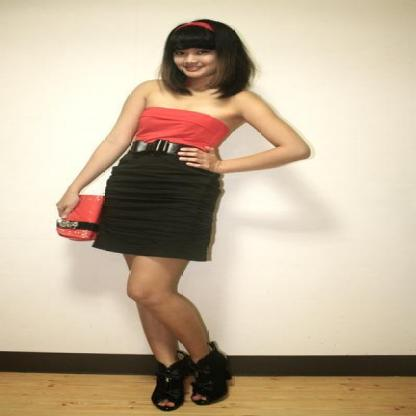bag: (56, 195, 102, 240)
shirt: (131, 104, 228, 150)
shoe: (146, 342, 230, 410)
skirt: (88, 141, 220, 263)
